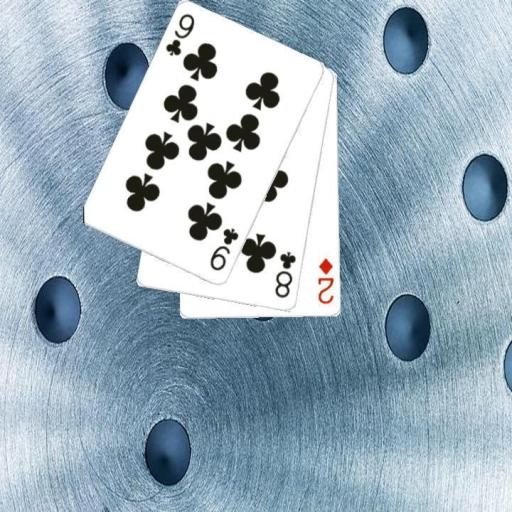card-corner: (206, 225, 240, 273), (162, 11, 196, 58), (272, 249, 298, 300), (315, 255, 336, 306)
